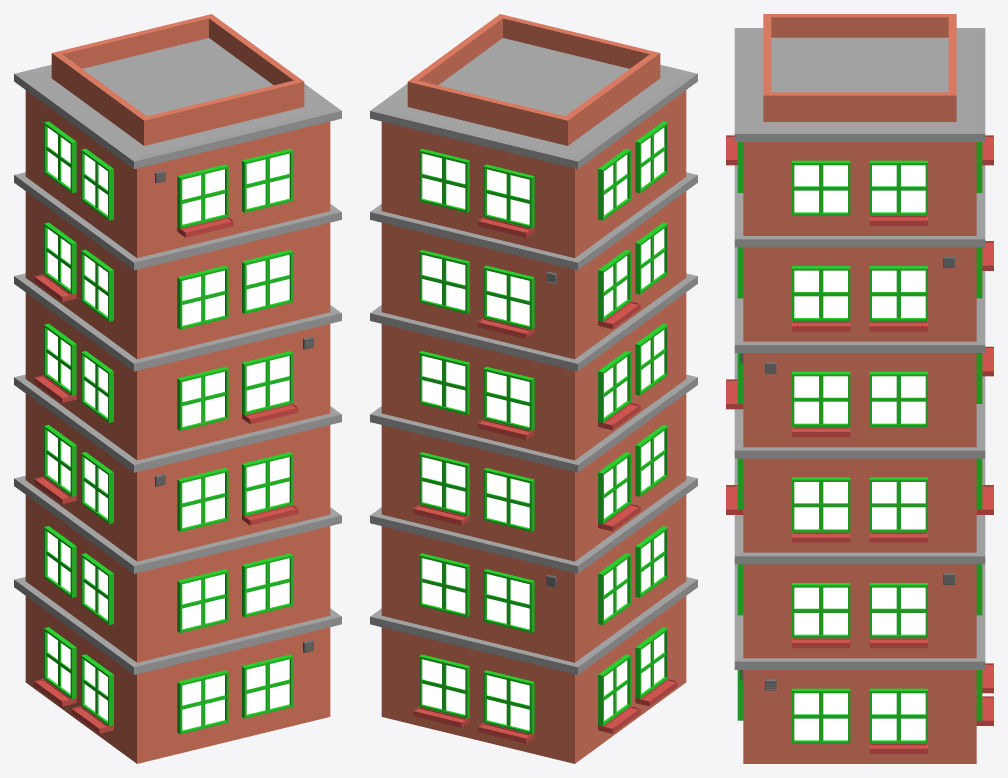
The model's file is multi_floor_building_in_blender_final.glb.
3 renders of one model, left to right at view 1: azimuth 30°, elevation 25°; view 2: azimuth 150°, elevation 25°; view 3: azimuth 270°, elevation 25°, orthographic. The views are drawn at different scales.
Visible parts, largest first — view 1: Building_01_3, Window_02.017_38, Window_02.015_31, Window_02.016_35, Window_01.019_41, Window_01.015_36, Window_01.017_39, Window_01.016_37, Window_01.018_40, Window_01.011_30, Window_01.012_32, Window_01.014_34 (+13 smaller); view 2: Building_01_3, Window_02.019_45, Window_02.020_46, Window_02.021_47, Window_02.018_42, Window_02.022_48, Window_02.023_49, Window_01.020_43, Window_01.021_44, Window_01.023_51, Window_01.024_52, Window_01.026_54 (+13 smaller); view 3: Building_01_3, Window_02.014_29, Window_02.009_21, Window_02.010_22, Window_02.012_27, Window_02.013_28, Window_02.006_18, Window_02.007_19, Window_02.008_20, Window_02.011_26, Window_01.008_23, Window_01.009_24 (+5 smaller).
Part boxes in pixels (x1,y1,x2,y2): Building_01_3: (14,14,341,763); Window_02.017_38: (177,164,233,237); Window_02.015_31: (242,452,298,525); Window_02.016_35: (242,351,298,424); Window_01.019_41: (177,265,228,329); Window_01.015_36: (177,670,228,734); Window_01.017_39: (177,366,228,430); Window_01.016_37: (177,569,228,633); Window_01.018_40: (177,468,228,531); Window_01.011_30: (242,553,292,617); Window_01.012_32: (242,654,292,718); Window_01.014_34: (242,148,292,212); Building_01_3: (370,14,697,763); Window_02.019_45: (478,265,534,338); Window_02.020_46: (478,164,534,237); Window_02.021_47: (478,670,534,743); Window_02.018_42: (478,366,534,439); Window_02.022_48: (413,452,469,525); Window_02.023_49: (413,654,469,727); Window_01.020_43: (483,468,534,531); Window_01.021_44: (483,569,534,633); Window_01.023_51: (419,553,469,617); Window_01.024_52: (419,351,469,415); Window_01.026_54: (419,148,469,212); Building_01_3: (734,14,985,763); Window_02.014_29: (792,371,850,437); Window_02.009_21: (869,266,927,331); Window_02.010_22: (869,477,927,542); Window_02.012_27: (792,266,850,331); Window_02.013_28: (792,477,850,542); Window_02.006_18: (869,688,927,753); Window_02.007_19: (869,160,927,225); Window_02.008_20: (869,583,927,648); Window_02.011_26: (792,583,850,648); Window_01.008_23: (869,371,927,426); Window_01.009_24: (792,688,850,743).
Size of what is drawn, in the model's own units: 4.6 by 13.1 by 4.6.
